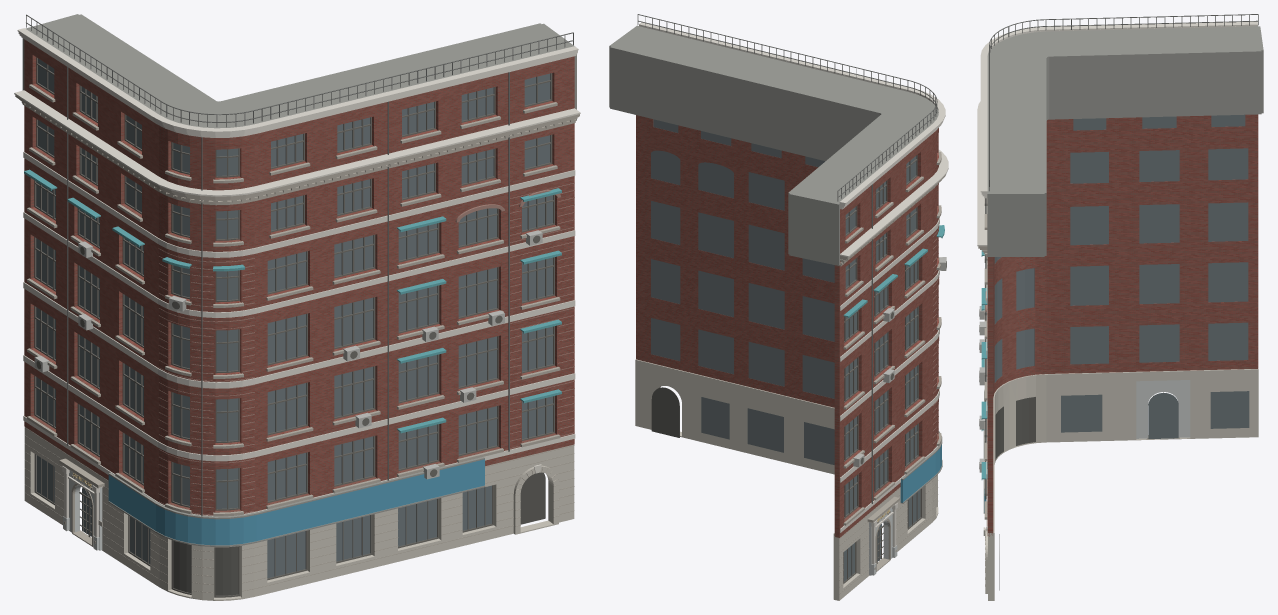
The model's file is huangpu-arnhold-building-southwest-corner-lod.glb.
The picture shows the model from 3 angles, left to right: view 1: azimuth 30°, elevation 25°; view 2: azimuth 150°, elevation 25°; view 3: azimuth 270°, elevation 25°; orthographic projection. The views are drawn at different scales.
Visible parts, largest first — view 1: 安利大楼西南转角入口与两街红砖窗带; view 2: 安利大楼西南转角入口与两街红砖窗带; view 3: 安利大楼西南转角入口与两街红砖窗带.
Boxes of the visible parts, x1,y1,x2,y2 form: 安利大楼西南转角入口与两街红砖窗带: (14, 14, 580, 600); 安利大楼西南转角入口与两街红砖窗带: (609, 14, 948, 600); 安利大楼西南转角入口与两街红砖窗带: (977, 14, 1263, 600).
Size of the model in its own units: 23.92 by 27.32 by 16.84.
Materials: 15 (1 with a texture image).
